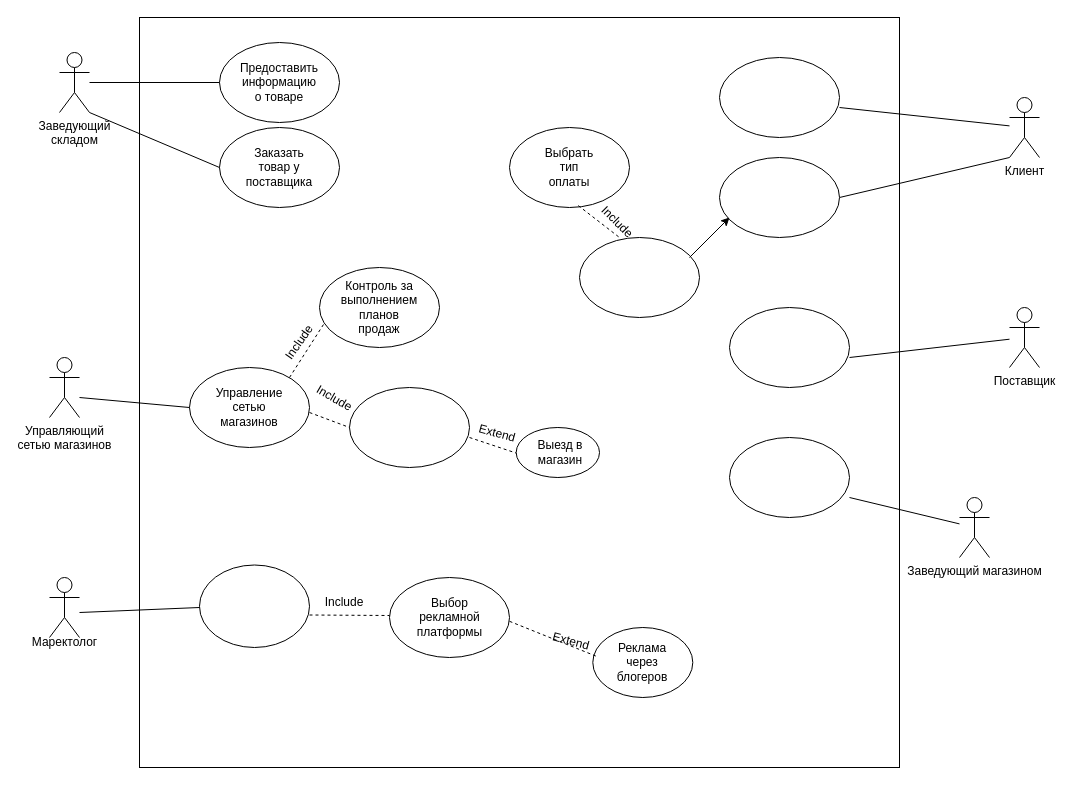
This 1072x785 diagram has some shape labels left out. Each missing label, with the box of its shape:
Заказать товар со склада: (728, 436, 850, 518)
Купить товар: (718, 156, 840, 238)
Курирование и развитие розничной сети: (348, 386, 470, 468)
Получить информацию о товаре: (718, 56, 840, 138)
Поставить товар: (728, 306, 850, 388)
Провести оплату: (578, 236, 700, 318)
Продвижение и реклама товаров и услуг: (198, 564, 310, 648)
